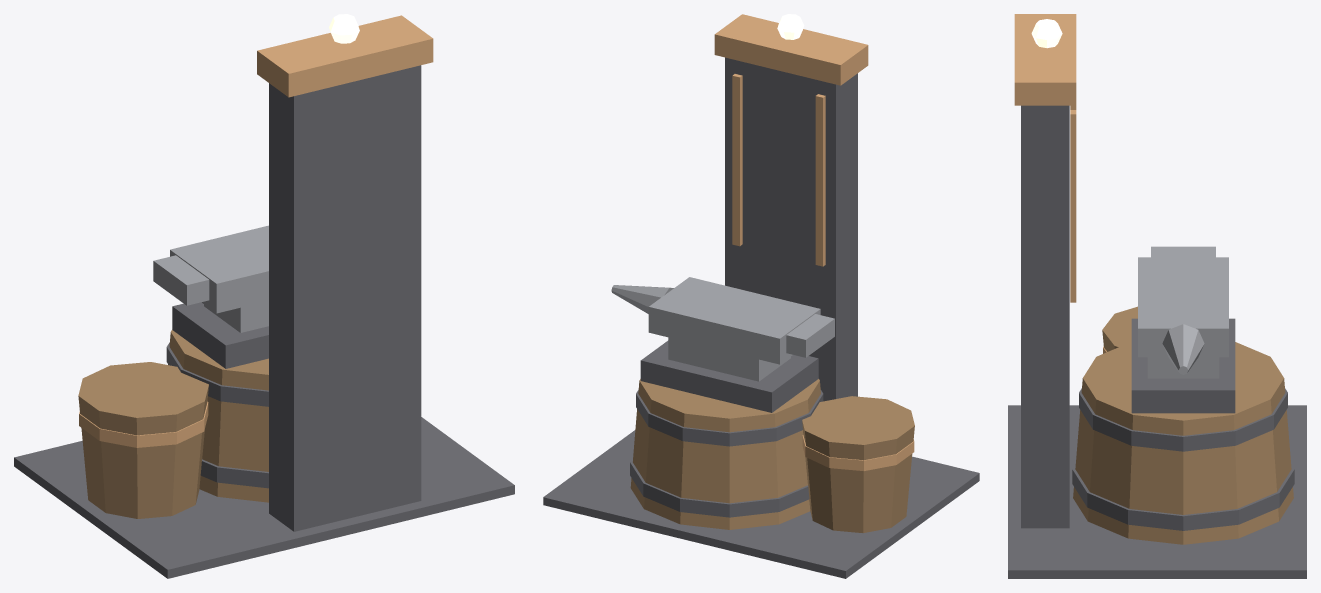
File: anvil_game.glb
3 views of the same model, side by side, from view 1: azimuth 30°, elevation 25°; view 2: azimuth 150°, elevation 25°; view 3: azimuth 270°, elevation 25° (orthographic). The views are drawn at different scales.
Visible parts, largest first — view 1: AnvilGame; view 2: AnvilGame; view 3: AnvilGame.
Part boxes in pixels (box(x1,y1,x2,y2)): AnvilGame: box(14, 14, 514, 578); AnvilGame: box(543, 14, 979, 578); AnvilGame: box(1008, 14, 1306, 578).
Size of the model in its own units: 1.2 by 1.66 by 0.92.
